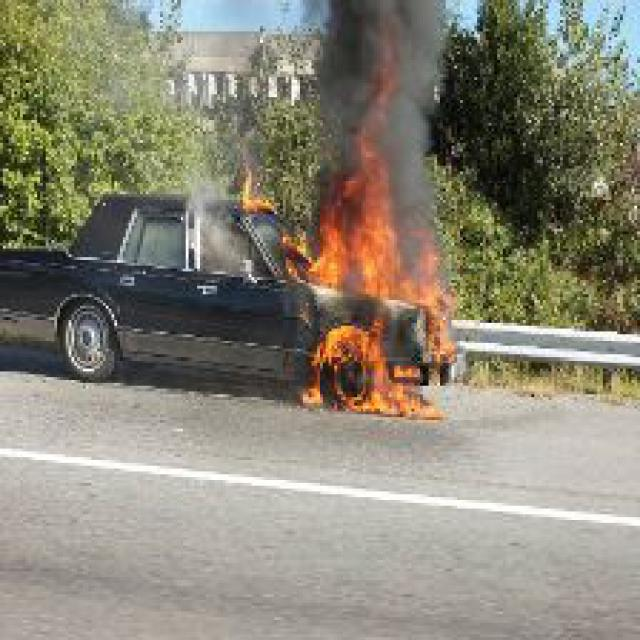fire: (283, 57, 463, 446)
